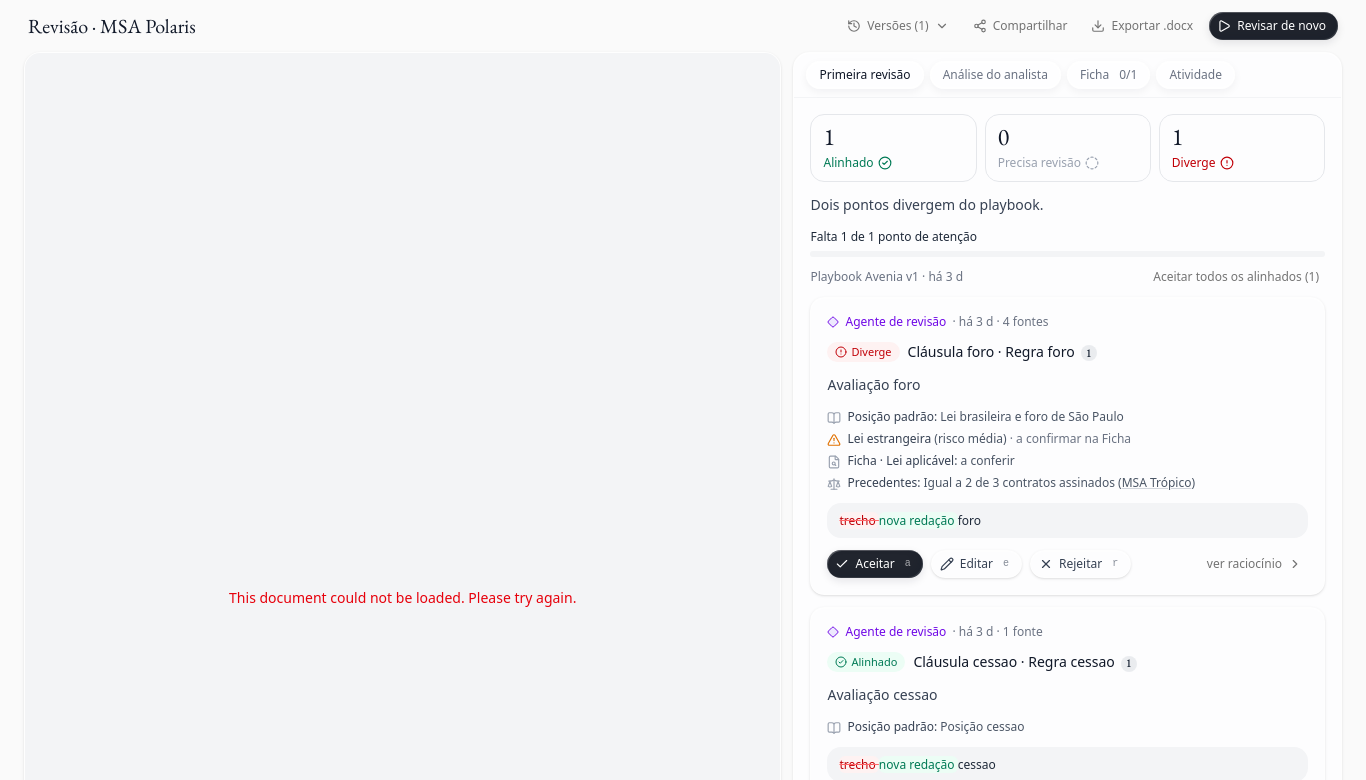
Test: ContractReviewWorkspace › tells the person what happened to the document under an accepted point
This screenshot has width=1366, height=780.
Click the 5th button named "Aceitar" at (875,564), box left=828, top=550, right=923, bottom=578
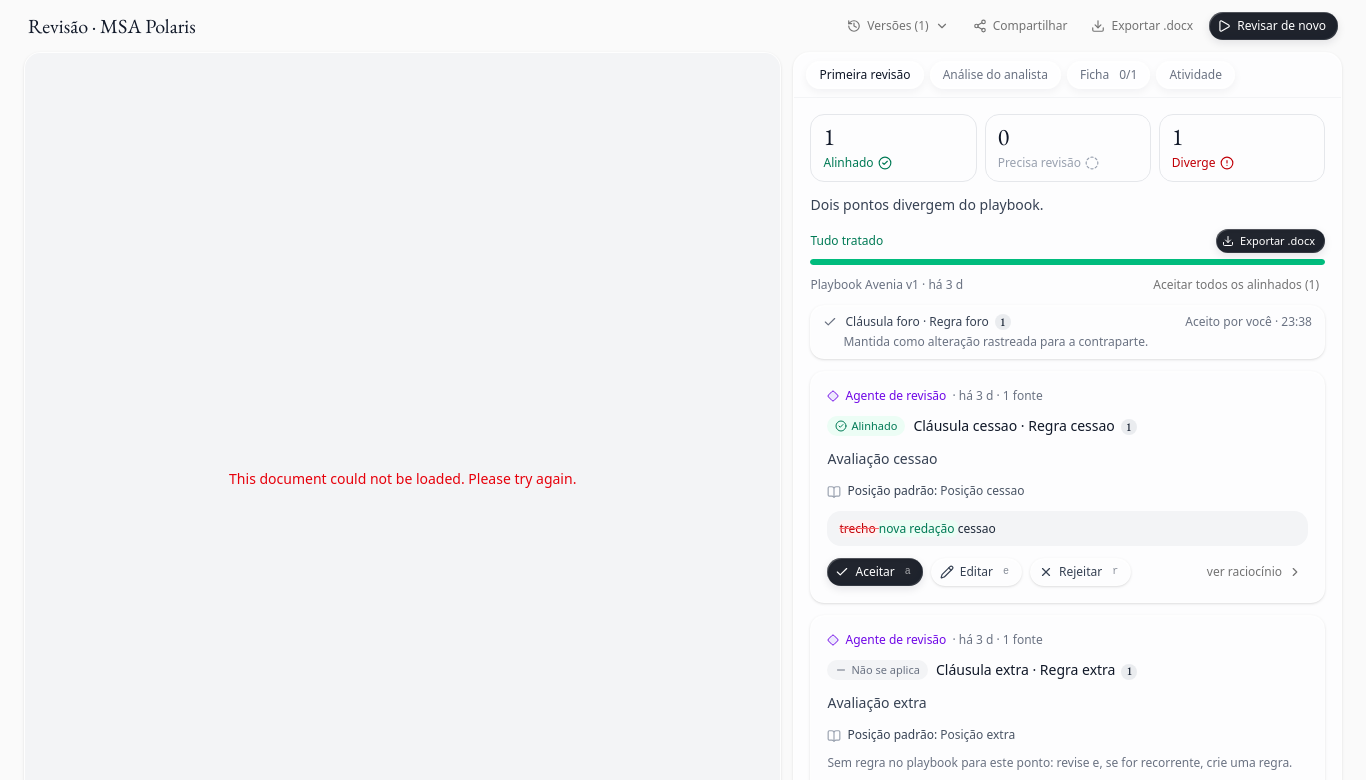
Check: the text "Mantida como alteração rastreada para a contraparte." is shown, box left=844, top=333, right=1148, bottom=350
